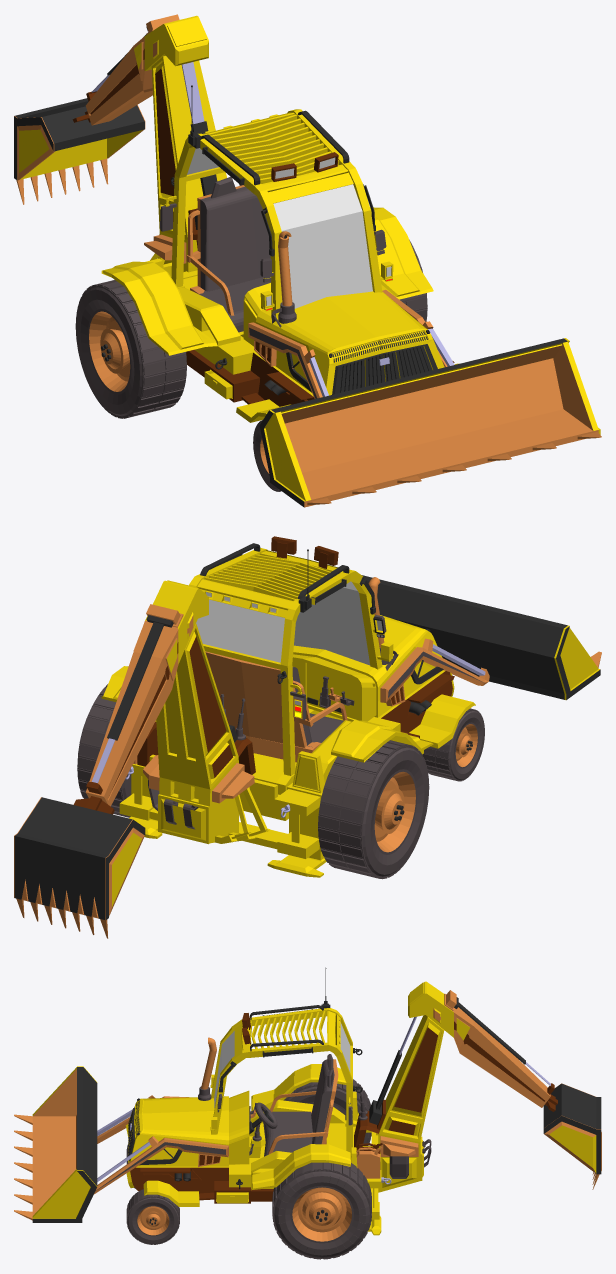
The model's file is JCB.fbx.
The picture shows the model from 3 angles, top to bottom: view 1: azimuth 30°, elevation 25°; view 2: azimuth 150°, elevation 25°; view 3: azimuth 270°, elevation 25°; orthographic projection. The views are drawn at different scales.
Parts seen in each view (by area): view 1: Body, FBucket.002, FGlass, RWheel.002, Body.003, BFemur, BBucket.001, FBucket, Body.004, BArm, BBucket.002, RWheel.Rhub (+13 smaller); view 2: Body, FBucket.001, BFemur, BBucket.001, RWheel.002, Body.002, BArm, FGlass, Cube, RWheel.Rhub, FWheel.001, BFemur.009 (+15 smaller); view 3: Body, FWheel.001, FBucket.002, BFemur, BArm, Body.003, FBucket.001, RWheelLHub, BBucket.001, BFemur.009, FBucket, FWheel (+24 smaller).
Part boxes in pixels (x1,y1,x2,y2): Body: (101, 109, 444, 399); FBucket.002: (281, 343, 593, 499); FGlass: (273, 184, 372, 308); RWheel.002: (75, 280, 186, 418); Body.003: (199, 177, 270, 332); BFemur: (150, 56, 226, 272); BBucket.001: (14, 98, 144, 179); FBucket: (264, 338, 600, 501); Body.004: (332, 344, 437, 394); BArm: (85, 14, 179, 125); BBucket.002: (19, 129, 142, 179); RWheel.Rhub: (89, 311, 130, 391); Body: (101, 548, 454, 877); FBucket.001: (362, 575, 600, 699); BFemur: (156, 623, 270, 844); BBucket.001: (14, 797, 145, 919); RWheel.002: (318, 740, 429, 879); Body.002: (205, 651, 347, 762); BArm: (85, 604, 189, 806); FGlass: (294, 581, 370, 665); Cube: (196, 596, 284, 662); RWheel.Rhub: (374, 771, 415, 852); FWheel.001: (77, 684, 131, 817); BFemur.009: (189, 636, 232, 777); Body: (125, 1008, 381, 1235); FWheel.001: (272, 1162, 371, 1259); FBucket.002: (32, 1069, 76, 1215); BFemur: (378, 1015, 444, 1192); BArm: (433, 990, 550, 1107); Body.003: (263, 1054, 334, 1156); FBucket.001: (32, 1067, 97, 1222); RWheelLHub: (292, 1187, 351, 1241); BBucket.001: (543, 1083, 601, 1174); BFemur.009: (388, 1027, 437, 1135); FBucket: (32, 1066, 97, 1218); FWheel: (126, 1189, 179, 1244).
Bounding box in the file's own units: 485 × 481 × 1150.
